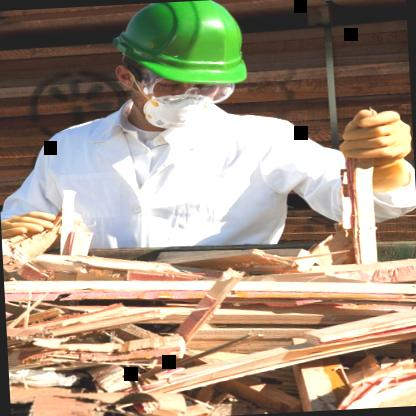helmet: (94, 0, 277, 133)
